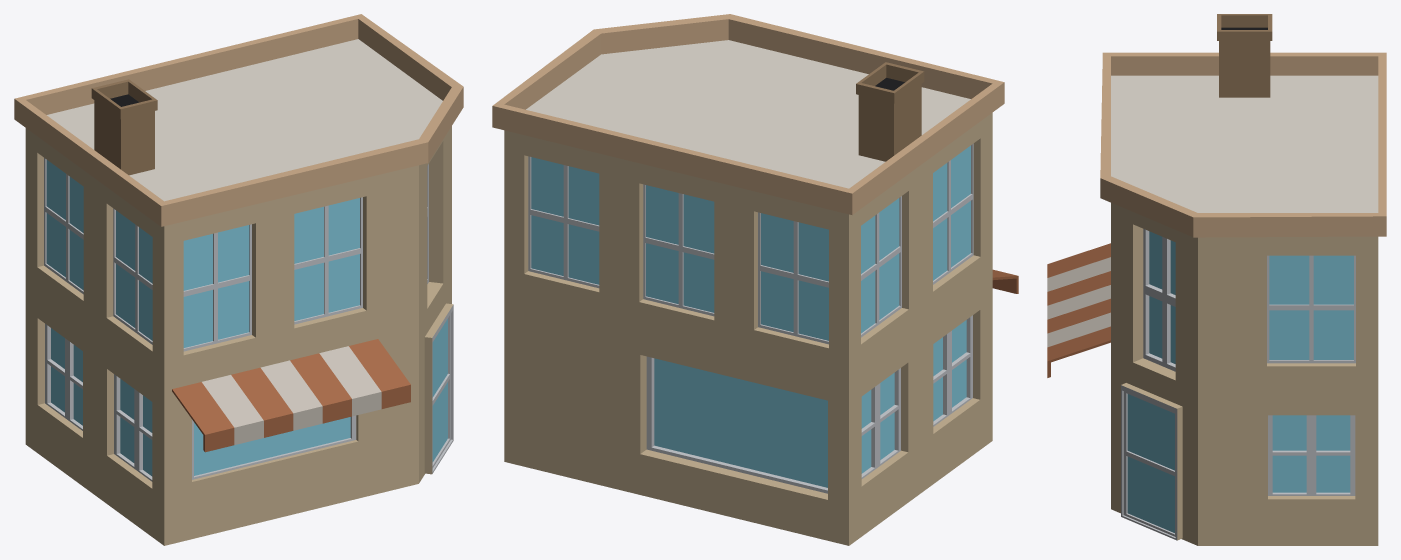
The model's file is SM_hostel_01_A.gltf.
The picture shows the model from 3 angles, left to right: view 1: azimuth 30°, elevation 25°; view 2: azimuth 150°, elevation 25°; view 3: azimuth 270°, elevation 25°; orthographic projection. The views are drawn at different scales.
Parts seen in each view (by area): view 1: SM_hostel_01_A; view 2: SM_hostel_01_A; view 3: SM_hostel_01_A.
Part boxes in pixels (x1,y1,x2,y2): SM_hostel_01_A: (14, 14, 463, 545); SM_hostel_01_A: (492, 14, 1018, 545); SM_hostel_01_A: (1047, 14, 1386, 545).
Size of the model in its own units: 4.72 by 5.08 by 4.1.
